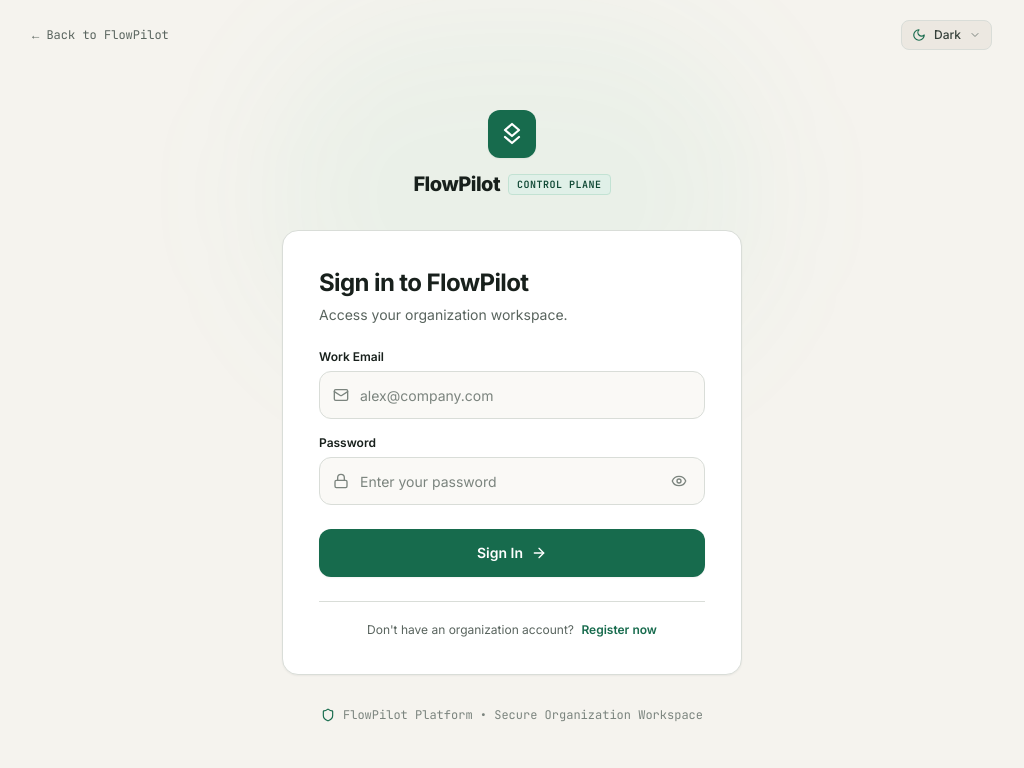
Test: Authentication Flow › LoginPage Component › displays error alert when login fails
In the field labelled "Work Email": (512, 395) [319,371,705,419], type "wrong@example.com"
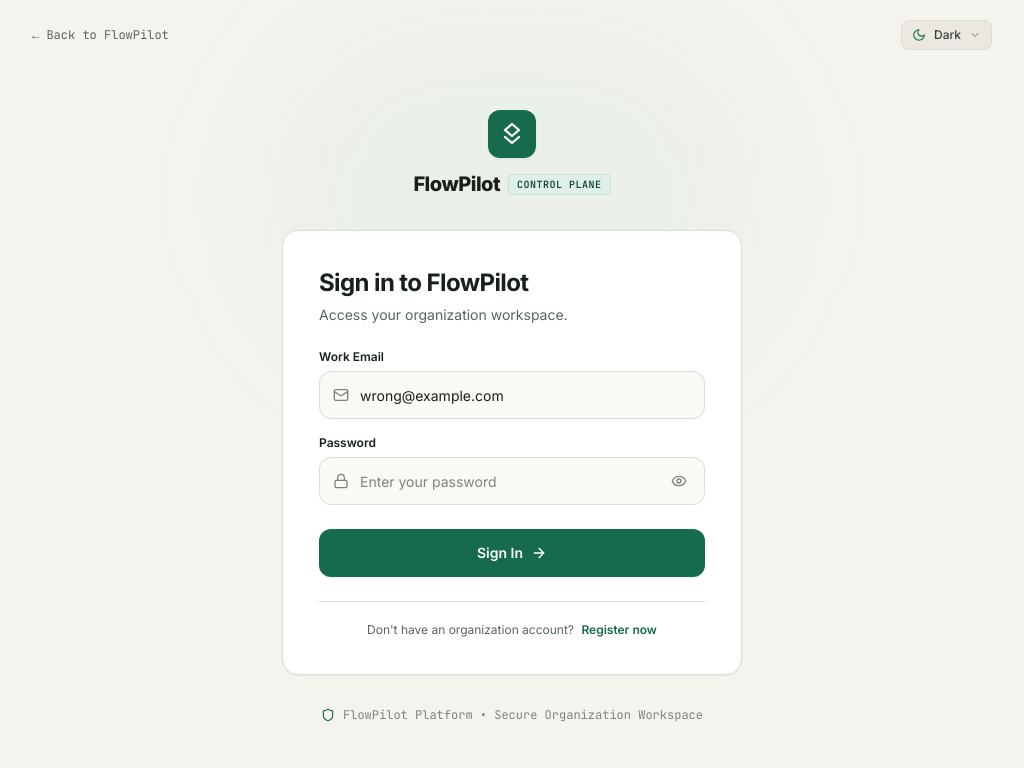
In the password field labelled "Password": (512, 481) [319,457,705,505], type "WrongPassword123!"
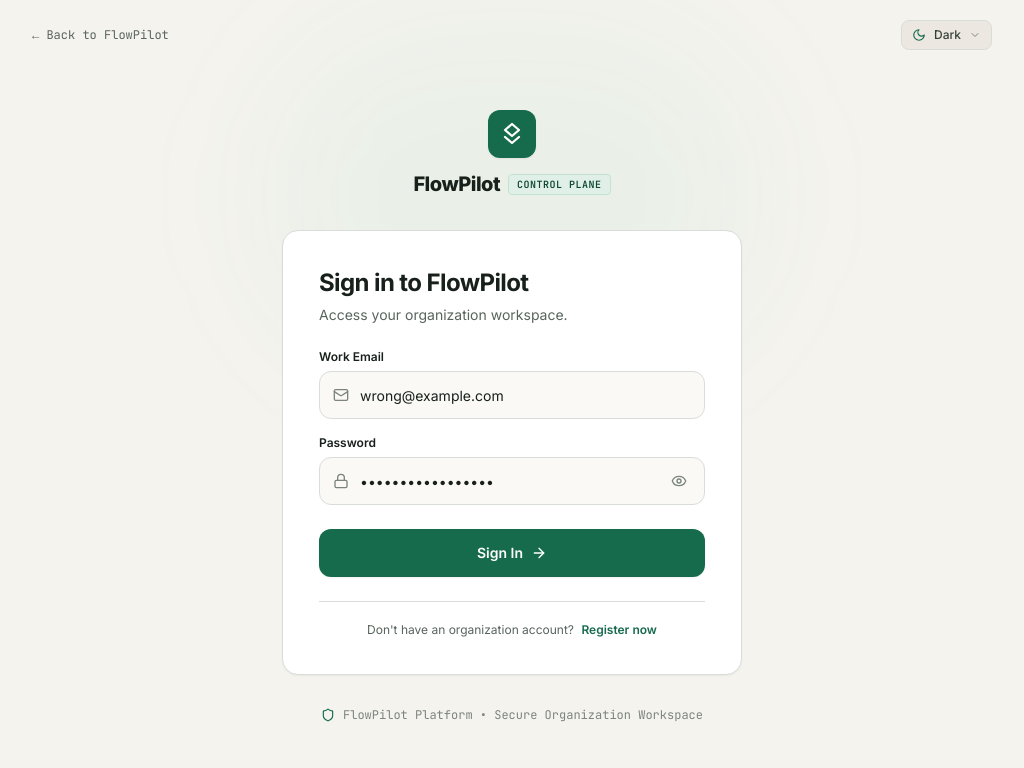
Click the button "Sign In": (512, 553) [319,529,705,577]
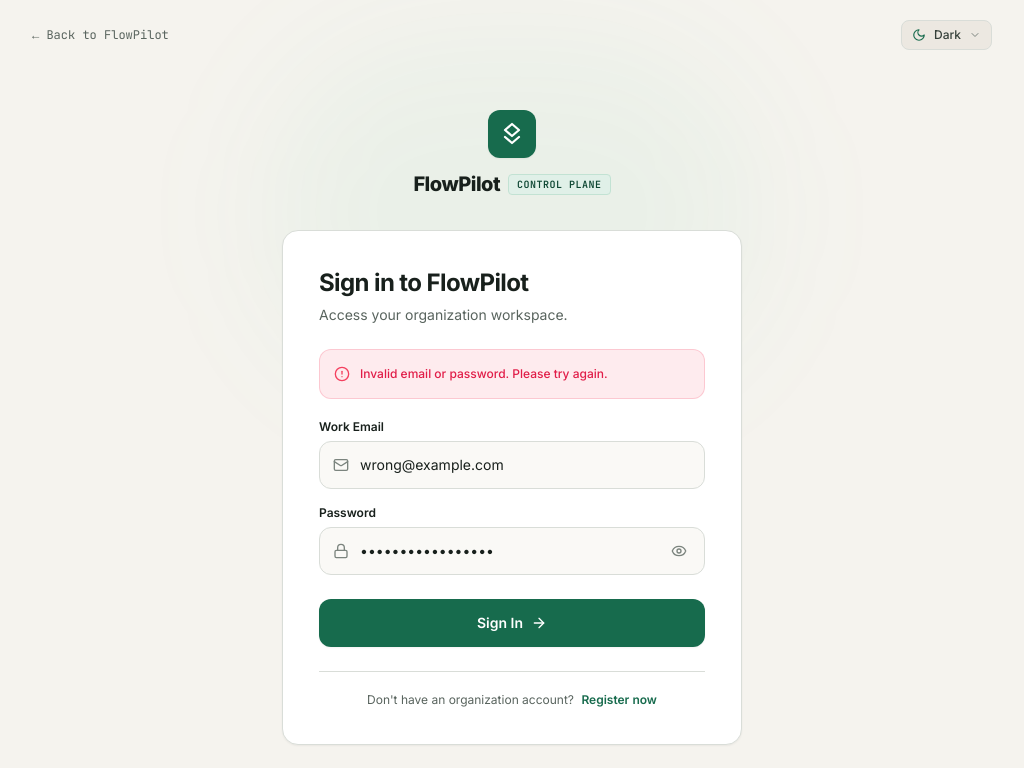
expect the message "Invalid email or password. Please try again." is shown: met, box [319,349,705,398]
expect the text "Invalid email or password. Please try again." is shown: met, box [360,364,608,384]
